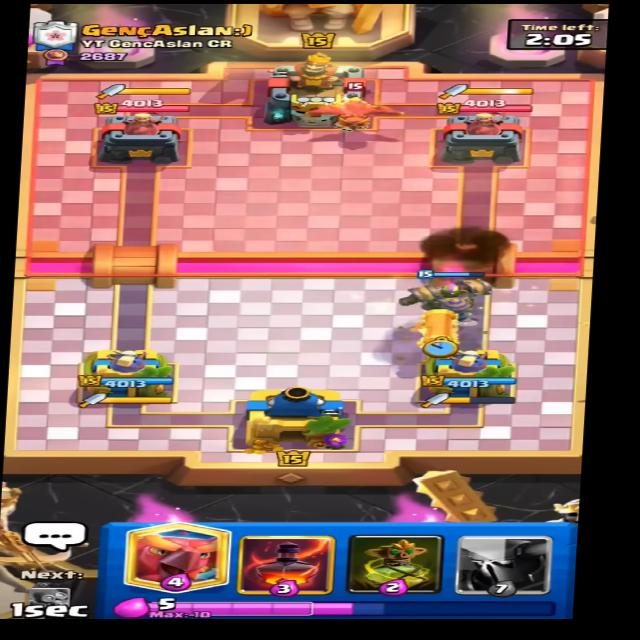phoenix: (288, 82, 422, 128)
